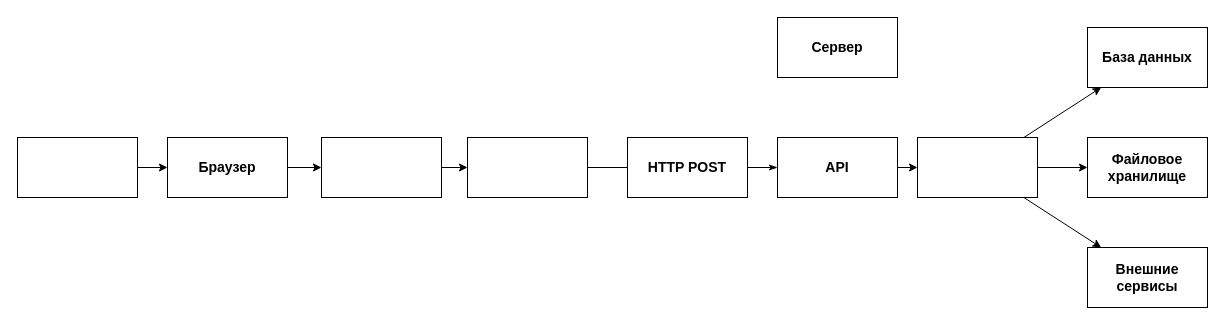
Image size: 1225x325. Some labels were removed from this diagram. Each missing label, with the box of its shape:
Бизнес логика: (916, 136, 1038, 198)
Интерфейс HTML: (320, 136, 442, 198)
Клиентская часть JS: (466, 136, 588, 198)
Пользователь: (16, 136, 138, 198)
